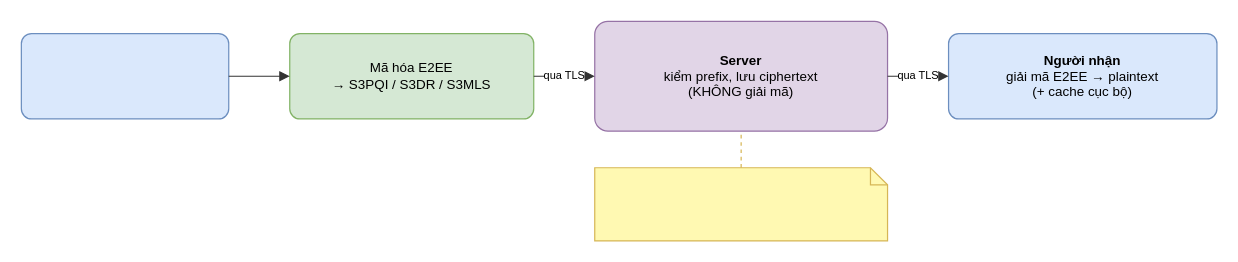
Image size: 1238x262. Some labels were removed from this diagram. Here are the shapes that lost their labels. From the top down, the centre of each, then its label:
the point at 124,75: Người gửi plaintext
the point at 741,204: DB chỉ chứa ciphertext + metadata, không có plaintext
